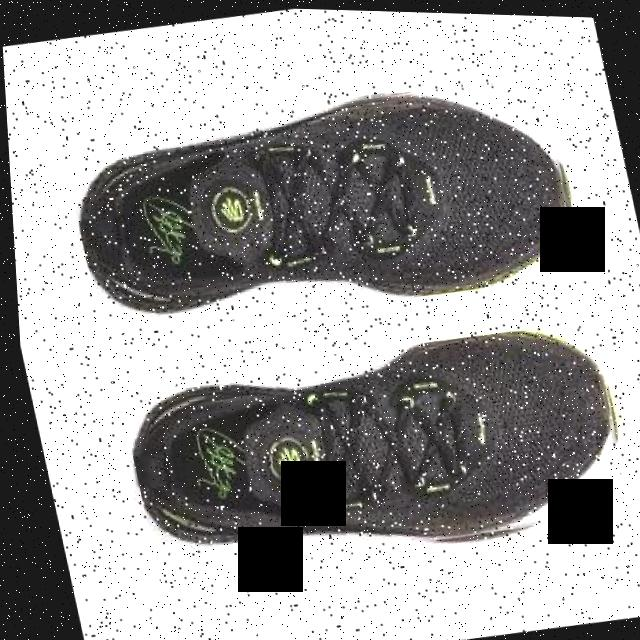shoe: (54, 57, 589, 348), (109, 306, 637, 594)
